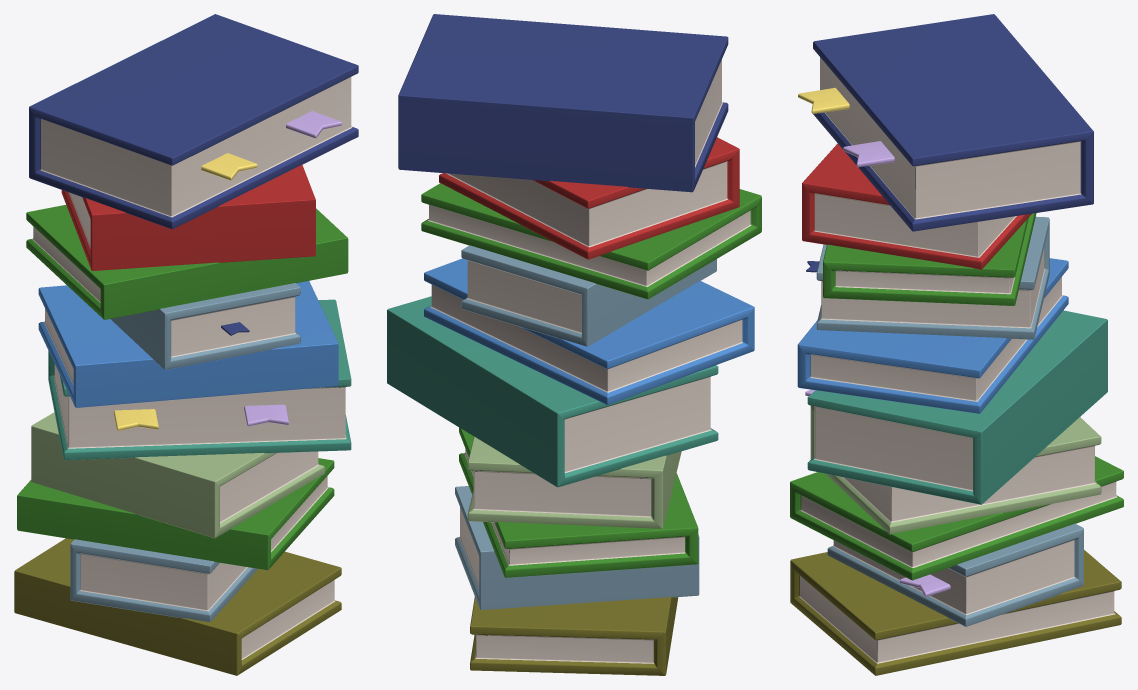
Rendered from Books_23.glb.
3 renders of one model, left to right at view 1: azimuth 30°, elevation 25°; view 2: azimuth 150°, elevation 25°; view 3: azimuth 270°, elevation 25°, orthographic. The views are drawn at different scales.
Visible parts, largest first — view 1: Books_23; view 2: Books_23; view 3: Books_23.
Boxes of the visible parts, left/top/right/bottom form: Books_23: left=14, top=14, right=358, bottom=675; Books_23: left=387, top=14, right=761, bottom=675; Books_23: left=790, top=14, right=1123, bottom=675.
Size of the model in its own units: 0.4096 by 0.6636 by 0.375.
Materials: 1 (1 with a texture image).
